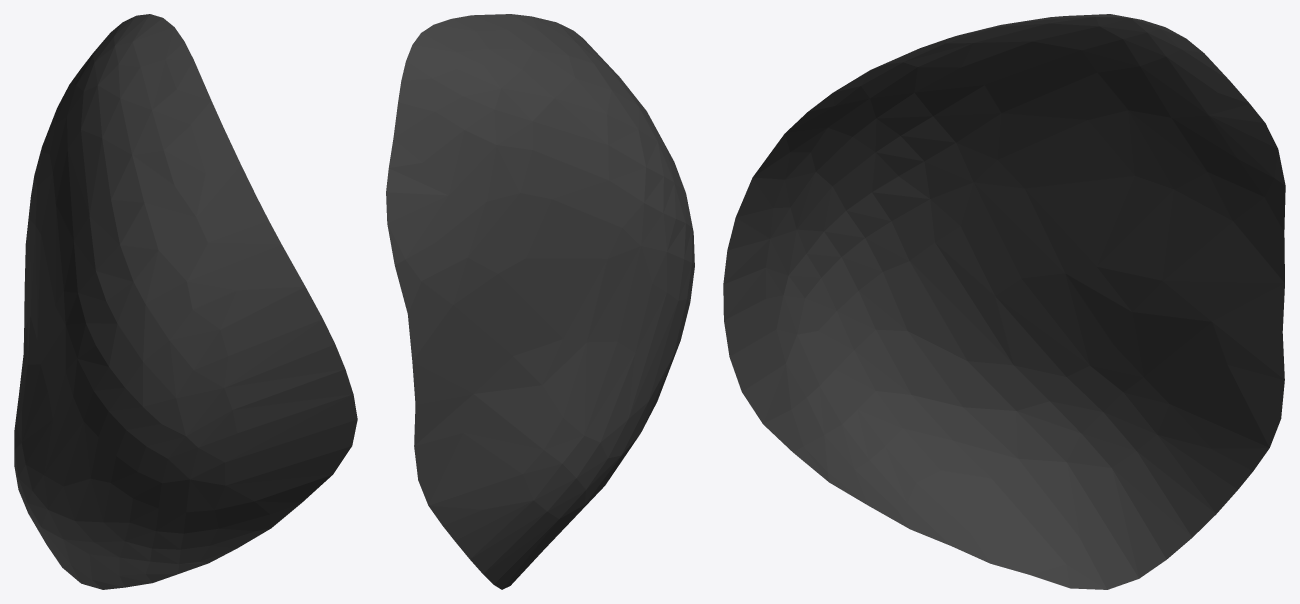
File: Humerus_lesser_tubercle.glb
3 renders of one model, left to right at view 1: azimuth 30°, elevation 25°; view 2: azimuth 150°, elevation 25°; view 3: azimuth 270°, elevation 25°, orthographic. The views are drawn at different scales.
Parts seen in each view (by area): view 1: Humerus_lesser_tubercle; view 2: Humerus_lesser_tubercle; view 3: Humerus_lesser_tubercle.
Boxes of the visible parts, bbox=[...] form: Humerus_lesser_tubercle: bbox=[14, 14, 357, 589]; Humerus_lesser_tubercle: bbox=[386, 14, 694, 589]; Humerus_lesser_tubercle: bbox=[723, 14, 1285, 589].
Size of the model in its own units: 0.1076 by 0.285 by 0.2337.
Materials: 1 (1 with a texture image).
